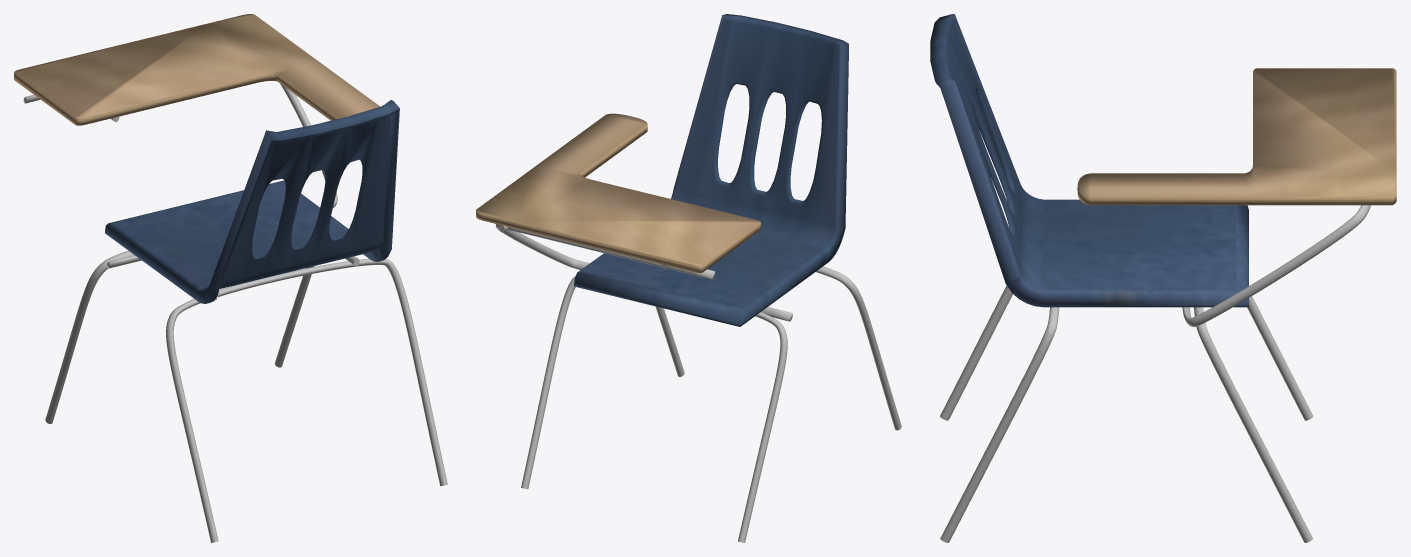
Rendered from Chair.fbx.
3 renders of one model, left to right at view 1: azimuth 30°, elevation 25°; view 2: azimuth 150°, elevation 25°; view 3: azimuth 270°, elevation 25°, orthographic. The views are drawn at different scales.
Visible parts, largest first — view 1: Plane.001, Desk - Top, Legs - Back, Legs - Front, Desk Mount; view 2: Plane.001, Desk - Top, Legs - Front, Legs - Back, Desk Mount; view 3: Plane.001, Desk - Top, Legs - Back, Legs - Front, Desk Mount.
Part boxes in pixels (x1,y1,x2,y2): Plane.001: (105,100,399,303); Desk - Top: (14,14,380,125); Legs - Back: (166,258,447,542); Legs - Front: (45,250,314,423); Desk Mount: (23,84,337,268); Plane.001: (574,14,848,326); Desk - Top: (476,113,760,272); Legs - Front: (521,276,787,542); Legs - Back: (655,266,901,430); Desk Mount: (495,224,792,321); Plane.001: (930,14,1248,307); Desk - Top: (1077,68,1396,205); Legs - Back: (940,285,1059,542); Legs - Front: (1194,296,1313,542); Desk Mount: (1182,205,1370,326).
Size of the model in its own units: 60.43 by 91.13 by 88.4.
